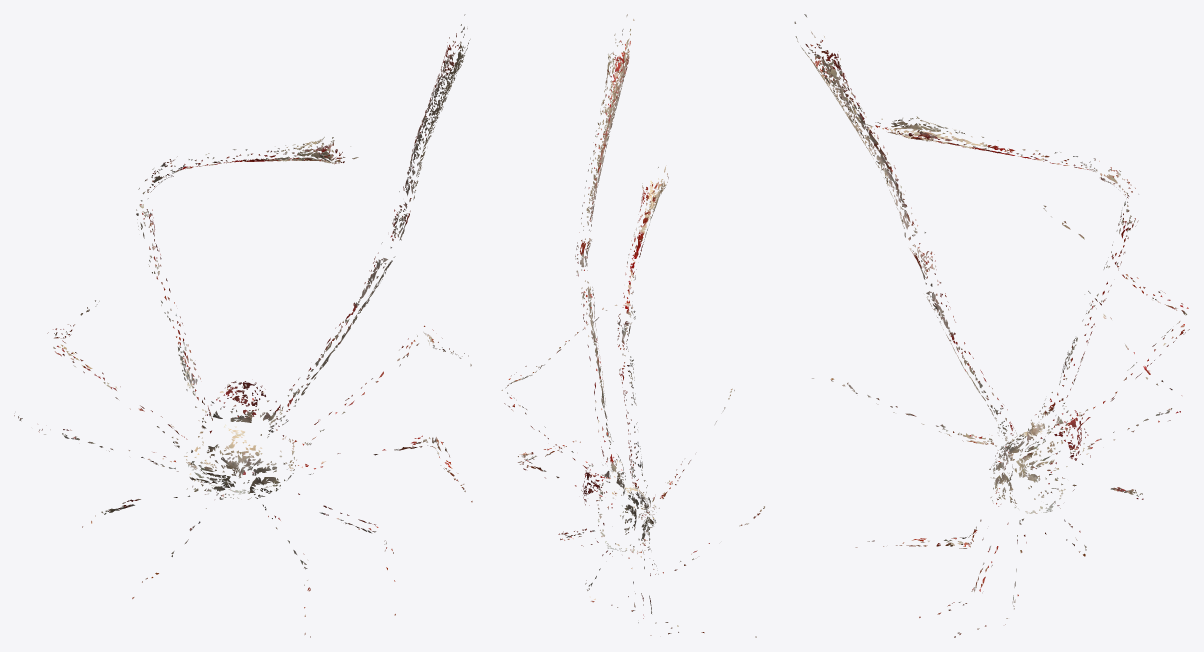
File: japanese-spider-crab.glb
3 renders of one model, left to right at view 1: azimuth 30°, elevation 25°; view 2: azimuth 150°, elevation 25°; view 3: azimuth 270°, elevation 25°, orthographic. The views are drawn at different scales.
Parts seen in each view (by area): view 1: Object_10; view 2: Object_10; view 3: Object_10.
Part boxes in pixels (left/top/right/bottom): Object_10: left=14, top=14, right=472, bottom=637; Object_10: left=501, top=14, right=764, bottom=637; Object_10: left=794, top=14, right=1189, bottom=637.
Size of the model in its own units: 1.99 by 3.41 by 1.84.
Materials: 1 (1 with a texture image).
